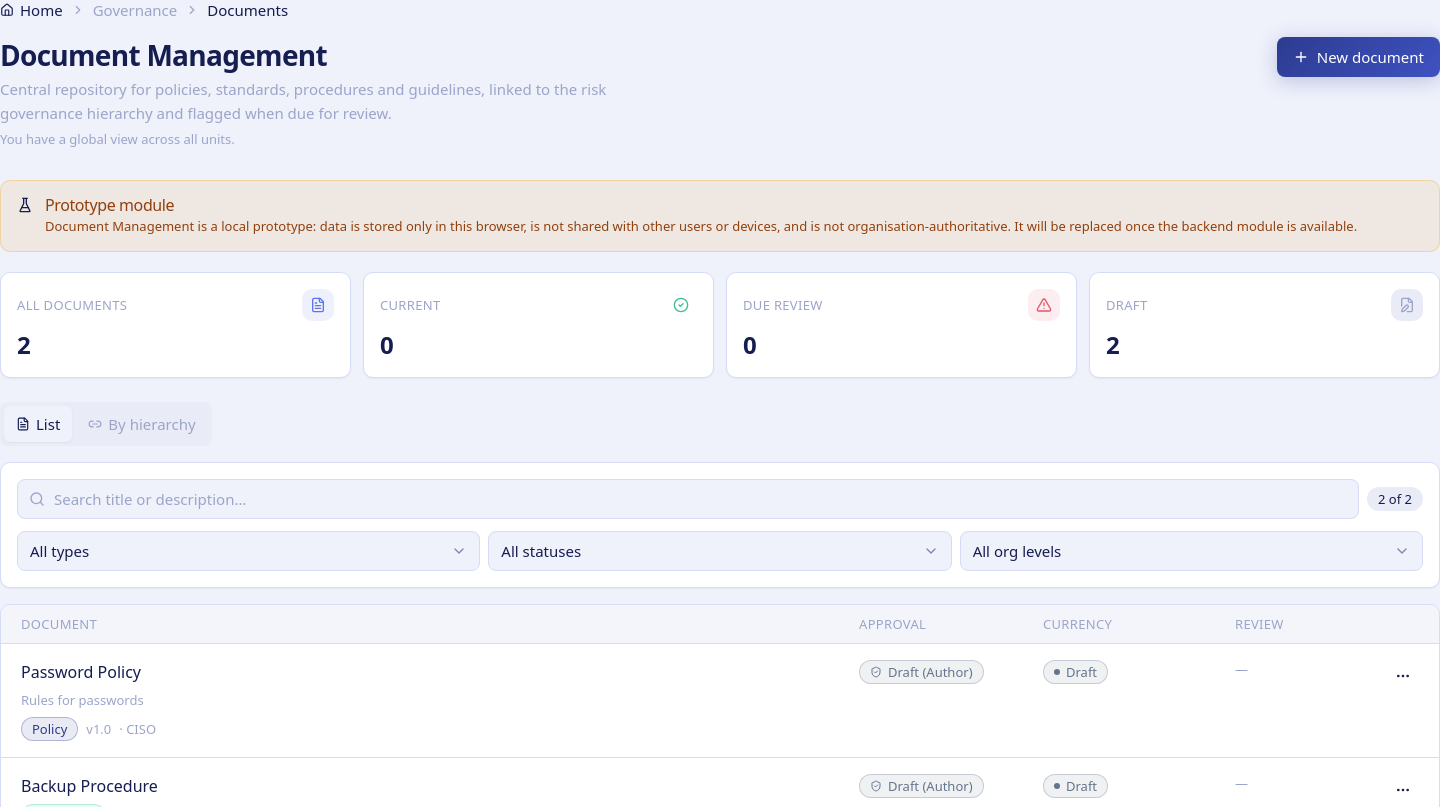
Scenario: DocumentManagement › creates a document from the dialog and persists it
The width and height of the screenshot is (1440, 807).
Click the button "New document": [1358, 57] box [1277,37,1439,77]
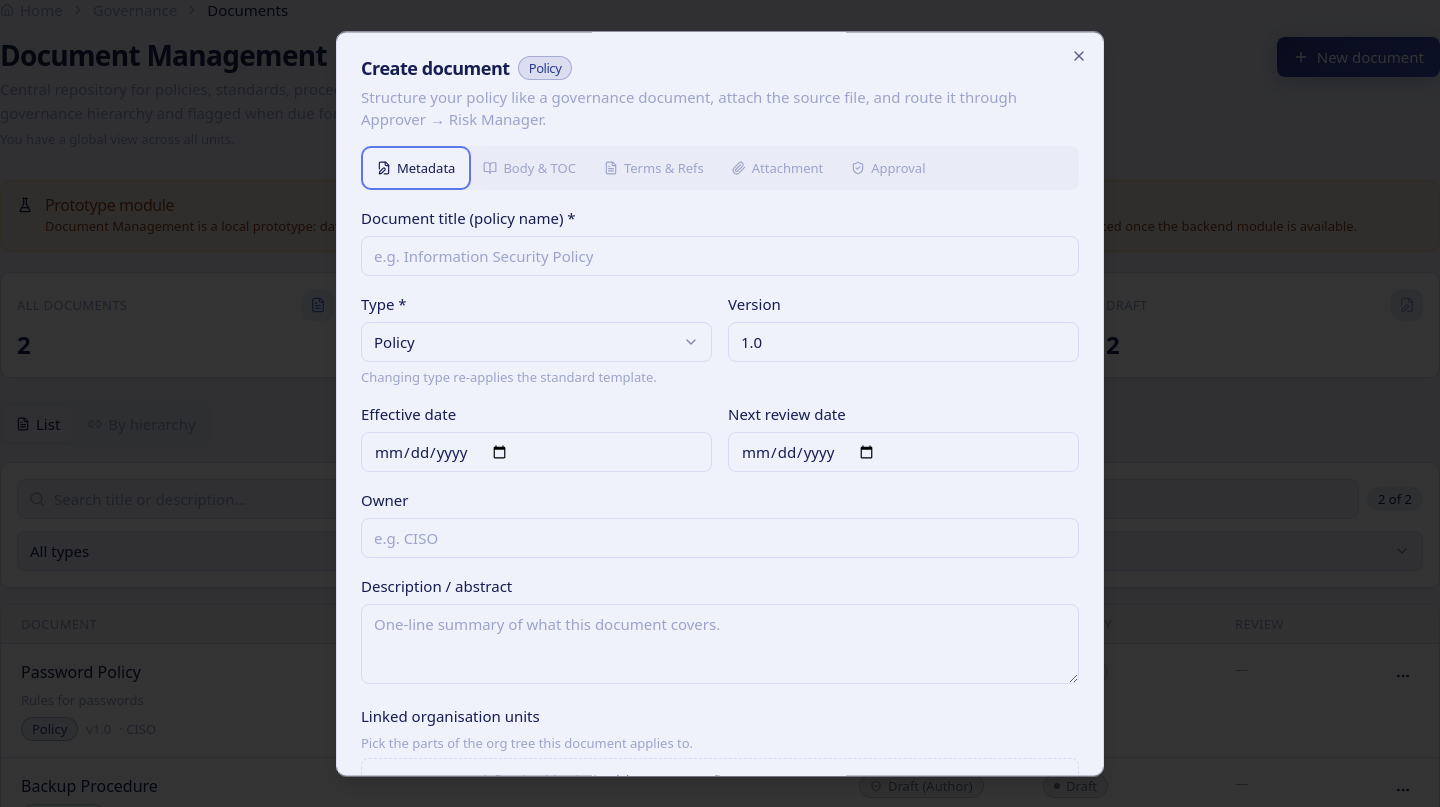
In the field labelled "Document title (policy name) *": [720, 256] box [361,236,1079,276], type "Acceptable Use Policy"
(page scrolled)
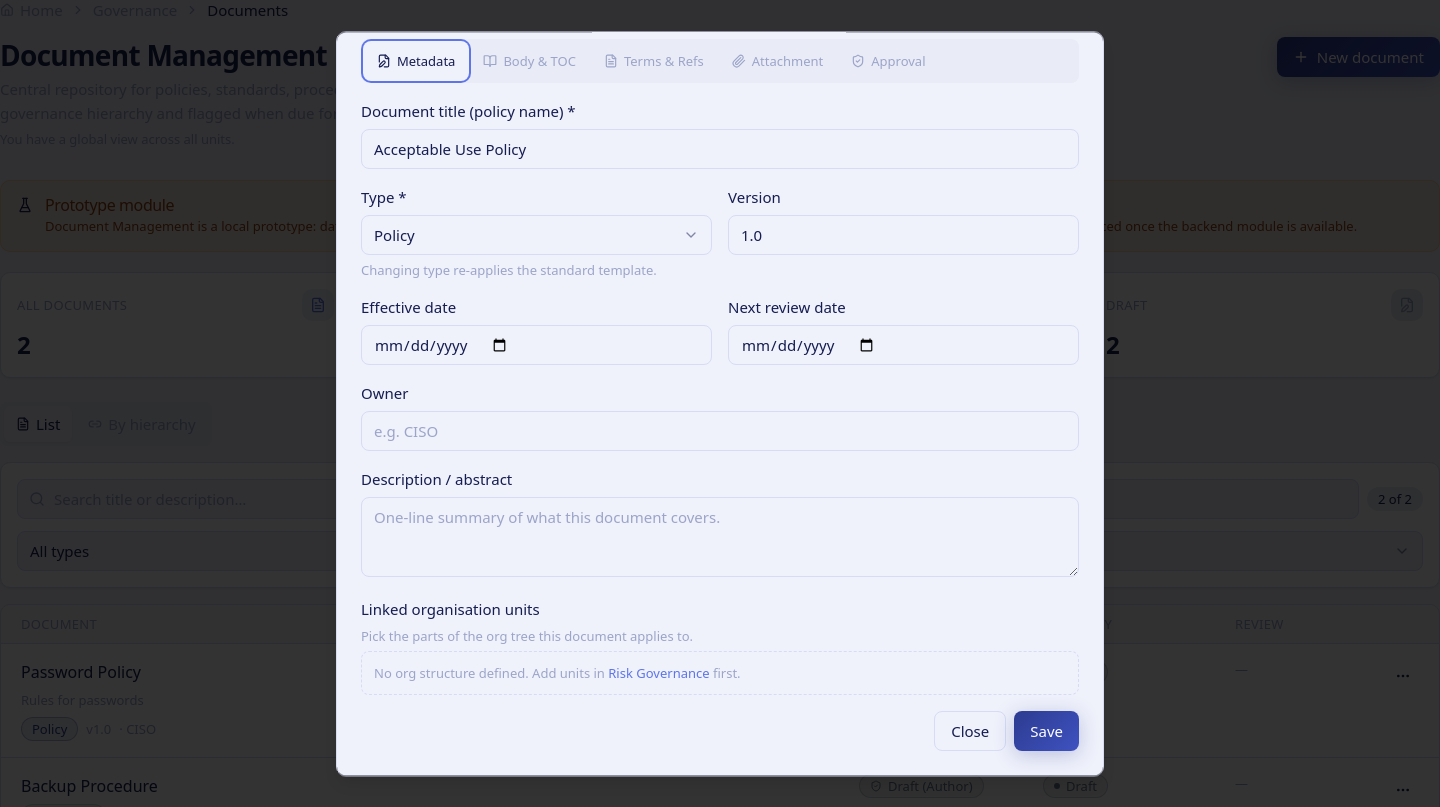
Click the button "Save": [1047, 731] box [1014,711,1079,751]
(page scrolled)
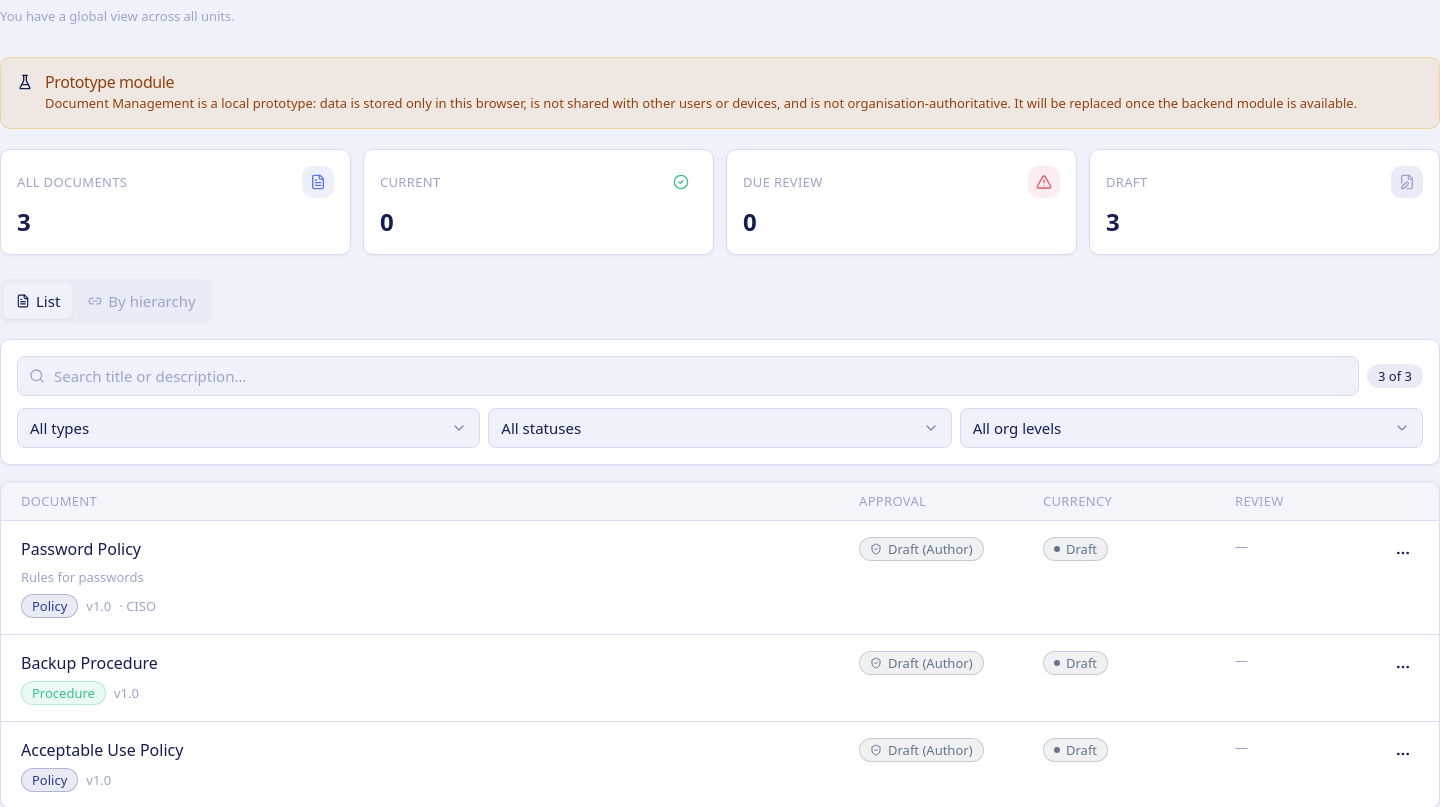
expect the text "Acceptable Use Policy" is shown: met, box [21,738,183,762]
